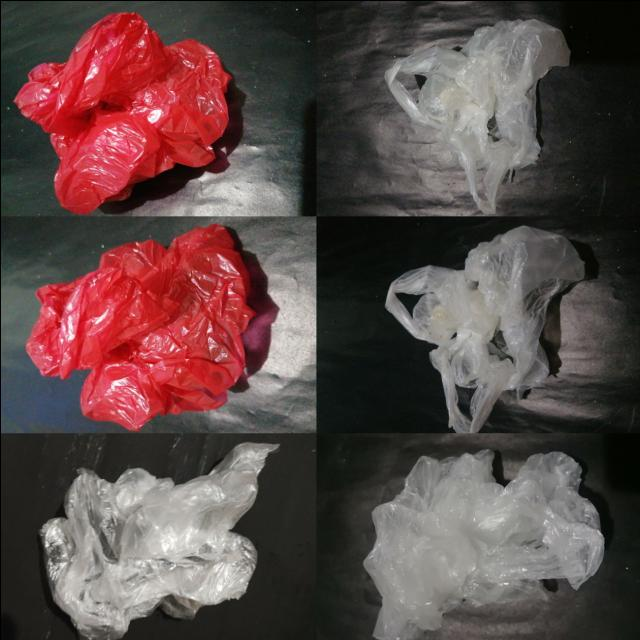plastik: (25, 223, 254, 429), (39, 442, 277, 640), (363, 448, 604, 640), (14, 11, 229, 213), (385, 225, 583, 431), (384, 19, 569, 213)
